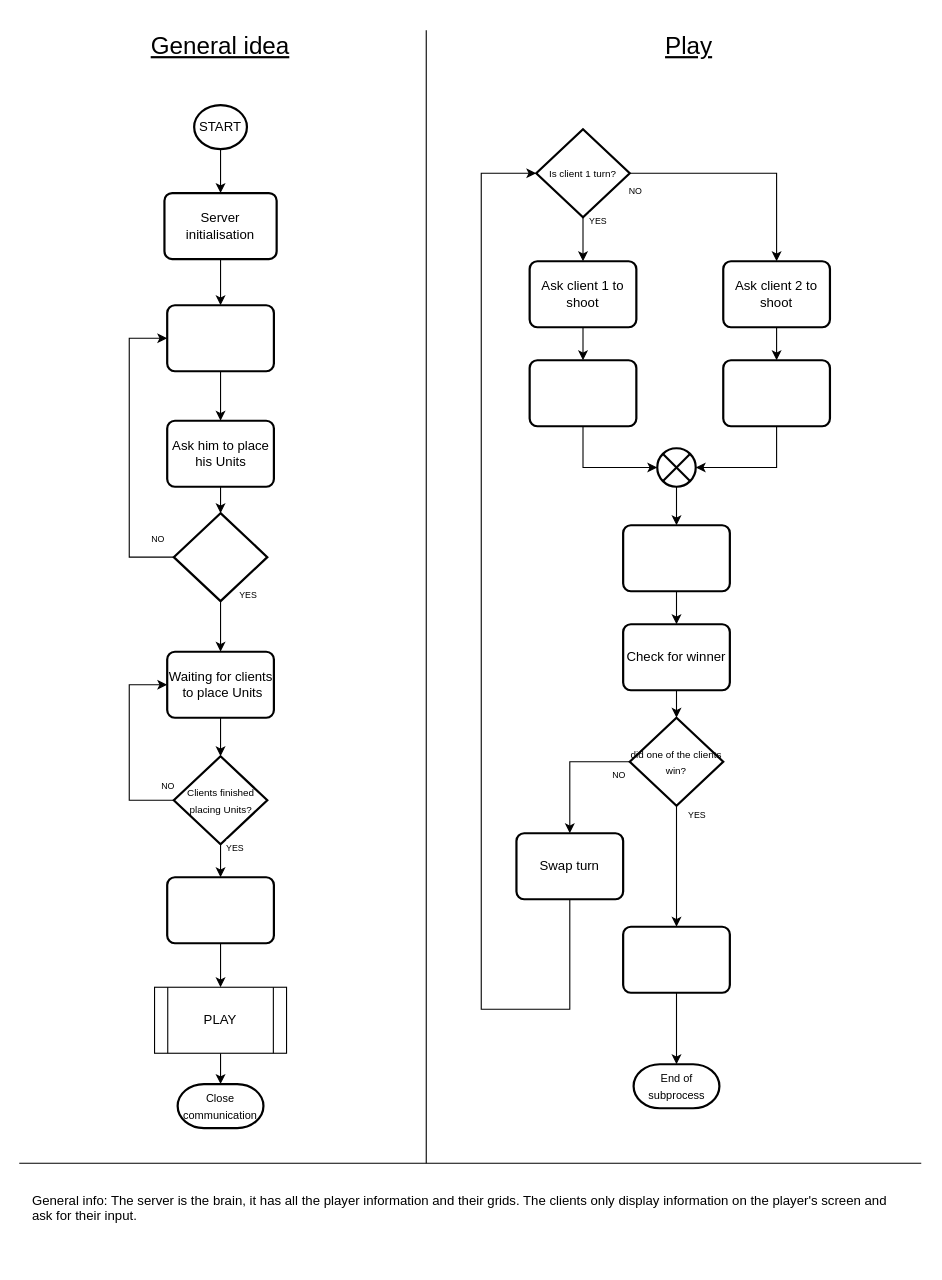
Some shapes in this 942 by 1280 pixel diagram are drawn without their labels. Each missing label, with the centre of its shape:
Are 2 clients connected ?: point (220, 557)
Randomly give turn to one client: point (220, 910)
Send apropriate message to both clients: point (676, 959)
Send shot result to client 1 and cleint 2: point (676, 558)
Shoot in client 1's grid & check for result: point (776, 393)
Shoot in client 2's grid & check for result: point (582, 393)
Waiting for a client to connect: point (220, 338)
